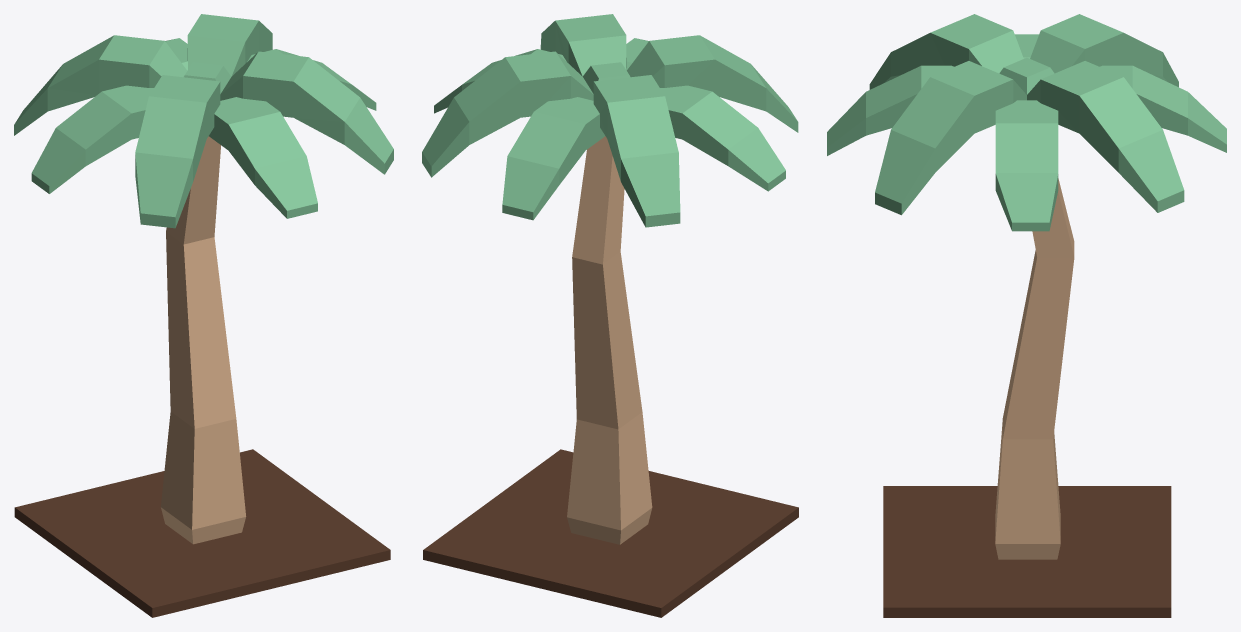
File: palm-tree.gltf
3 renders of one model, left to right at view 1: azimuth 30°, elevation 25°; view 2: azimuth 150°, elevation 25°; view 3: azimuth 270°, elevation 25°, orthographic. The views are drawn at different scales.
Visible parts, largest first — view 1: Group 154, Plane, Group 152; view 2: Group 154, Plane, Group 152; view 3: Group 154, Plane, Group 152.
Part boxes in pixels (x1=…): Group 154: x1=14, y1=14, x2=393, y2=228; Plane: x1=14, y1=449, x2=390, y2=617; Group 152: x1=161, y1=136, x2=246, y2=544; Group 154: x1=422, y1=14, x2=798, y2=227; Plane: x1=423, y1=449, x2=798, y2=617; Group 152: x1=567, y1=136, x2=652, y2=544; Group 154: x1=827, y1=14, x2=1226, y2=231; Plane: x1=883, y1=486, x2=1171, y2=617; Group 152: x1=995, y1=178, x2=1074, y2=559.
Bounding box in the file's own units: 2.77 × 3.85 × 2.77.
